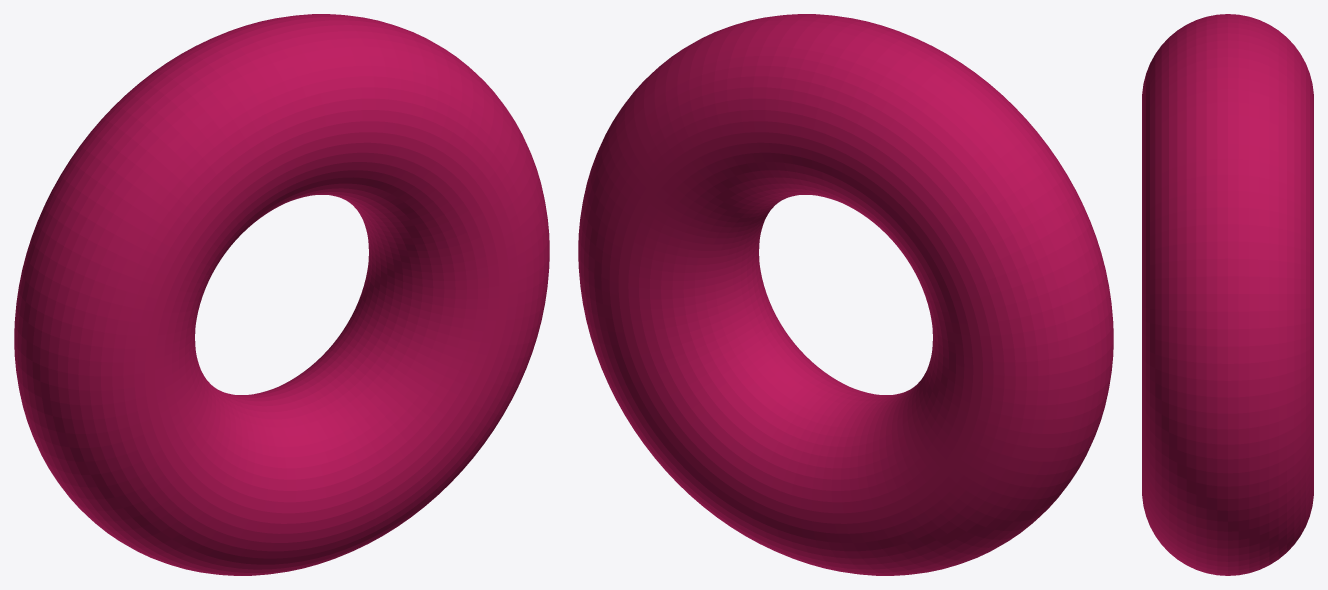
The picture shows the model from 3 angles, left to right: view 1: azimuth 30°, elevation 25°; view 2: azimuth 150°, elevation 25°; view 3: azimuth 270°, elevation 25°; orthographic projection. The views are drawn at different scales.
Parts seen in each view (by area): view 1: world; view 2: world; view 3: world.
Boxes of the visible parts, x1,y1,x2,y2 form: world: [14, 14, 549, 575]; world: [578, 14, 1113, 575]; world: [1142, 14, 1313, 575].
Size of the model in its own units: 23.07 by 23.07 by 7.05.
